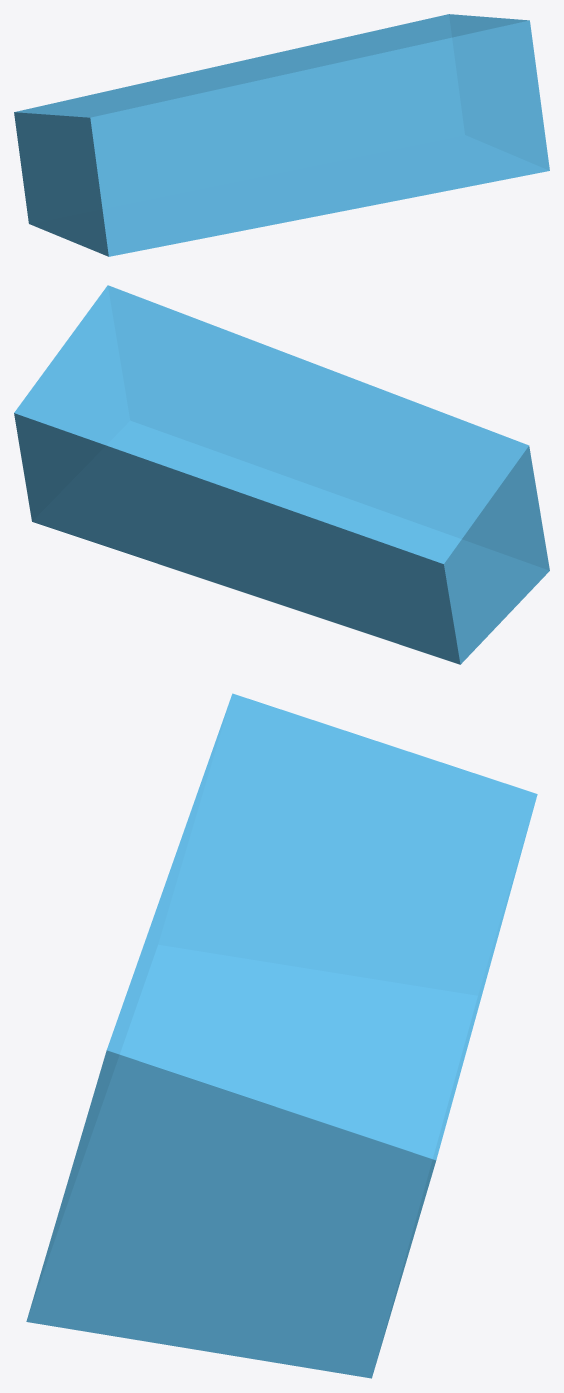
File: Event_421115418_HErechit_95.fbx
The picture shows the model from 3 angles, top to bottom: view 1: azimuth 30°, elevation 25°; view 2: azimuth 150°, elevation 25°; view 3: azimuth 270°, elevation 25°; orthographic projection. The views are drawn at different scales.
Visible parts, largest first — view 1: Model; view 2: Model; view 3: Model.
Boxes of the visible parts, x1,y1,x2,y2 form: Model: [14, 14, 549, 256]; Model: [14, 285, 549, 664]; Model: [26, 693, 537, 1378].
Size of the model in its own units: 0.8679 by 0.3481 by 0.4692.
